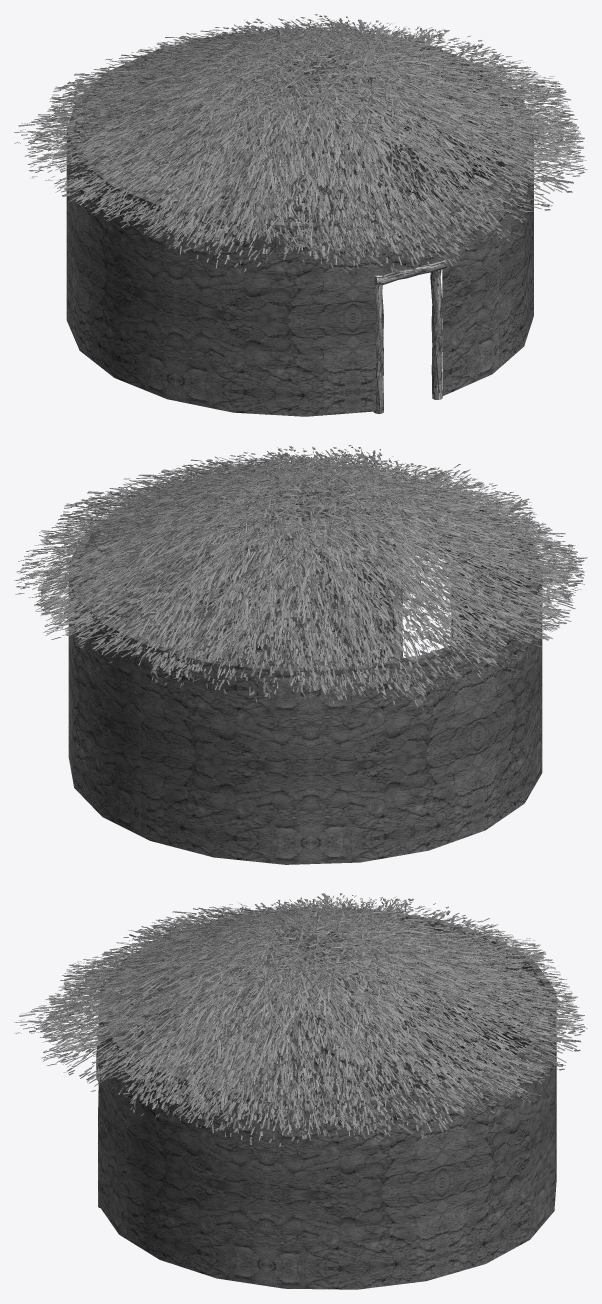
Rendered from hut.glb.
3 views of the same model, one above another, from view 1: azimuth 30°, elevation 25°; view 2: azimuth 150°, elevation 25°; view 3: azimuth 270°, elevation 25° (orthographic). The views are drawn at different scales.
Visible parts, largest first — view 1: Wall, Roof grassDryBlowing3Main6, grassDryBlowing3Main5 Roof, Door_frame pCylinder3, Door_frame pCylinder2, pCylinder4 Door_frame; view 2: Wall, grassDryBlowing3Main5 Roof, Roof grassDryBlowing3Main6; view 3: Wall, grassDryBlowing3Main5 Roof, Roof grassDryBlowing3Main6.
Part boxes in pixels (x1=…): Wall: x1=66, y1=29, x2=533, y2=416; Roof grassDryBlowing3Main6: x1=14, y1=19, x2=587, y2=272; grassDryBlowing3Main5 Roof: x1=24, y1=14, x2=578, y2=270; Door_frame pCylinder3: x1=430, y1=269, x2=442, y2=399; Door_frame pCylinder2: x1=374, y1=275, x2=383, y2=413; pCylinder4 Door_frame: x1=374, y1=259, x2=447, y2=285; Wall: x1=68, y1=475, x2=542, y2=864; grassDryBlowing3Main5 Roof: x1=34, y1=458, x2=587, y2=704; Roof grassDryBlowing3Main6: x1=14, y1=445, x2=584, y2=711; Wall: x1=98, y1=908, x2=556, y2=1289; grassDryBlowing3Main5 Roof: x1=14, y1=893, x2=587, y2=1146; Roof grassDryBlowing3Main6: x1=39, y1=902, x2=584, y2=1142.
Bounding box in the file's own units: 16.62 × 8.74 × 17.04.
Materials: 3 (3 with a texture image).
